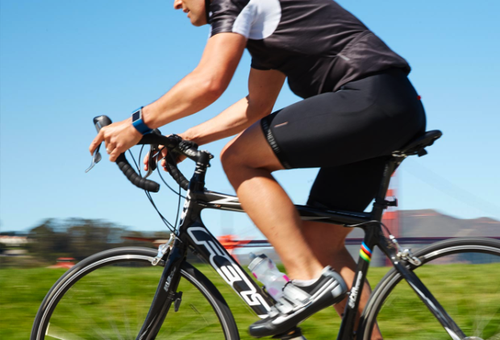bikerider: (4, 1, 495, 335)
